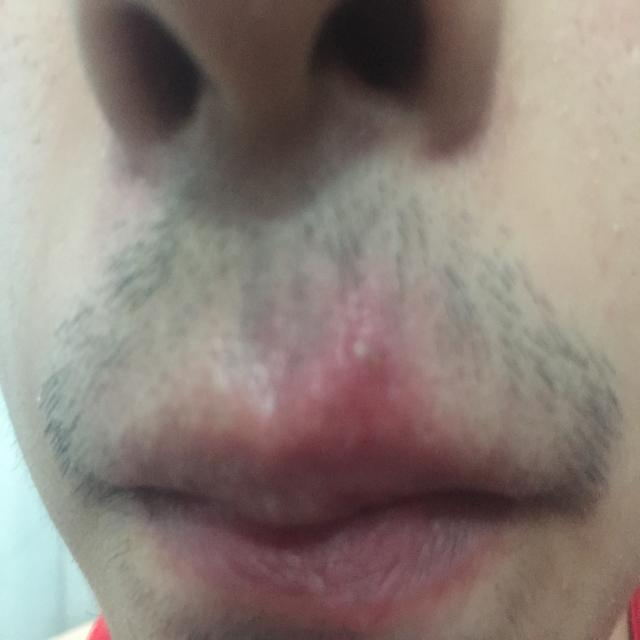blackheads: (346, 320, 385, 382)
